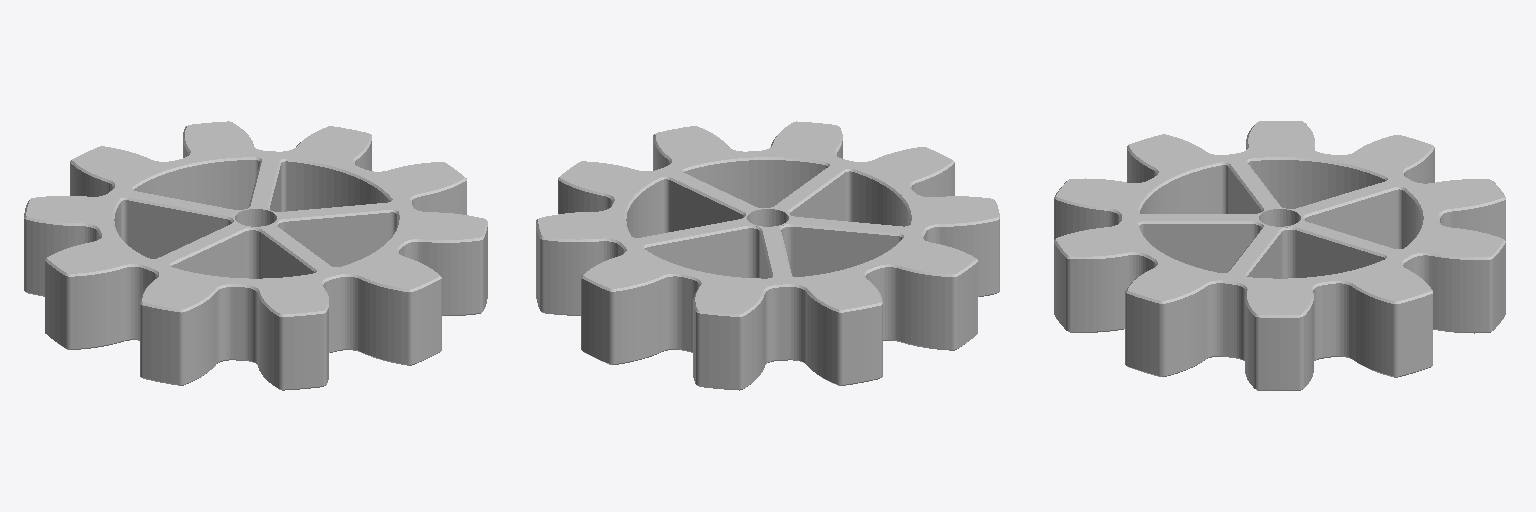
File: gear.obj
3 views of the same model, side by side, from view 1: azimuth 30°, elevation 25°; view 2: azimuth 150°, elevation 25°; view 3: azimuth 270°, elevation 25° (orthographic).
Parts seen in each view (by area): view 1: steamworksgear; view 2: steamworksgear; view 3: steamworksgear.
Part boxes in pixels (x1,y1,x2,y2): steamworksgear: (24, 121, 487, 390); steamworksgear: (536, 121, 999, 390); steamworksgear: (1054, 121, 1505, 390).
Size of the model in its own units: 0.3372 by 0.0611 by 0.3288.